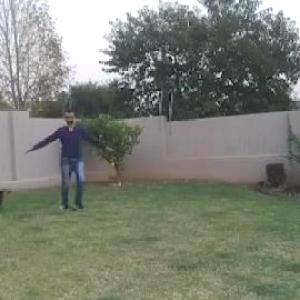land: (32, 105, 118, 206)
